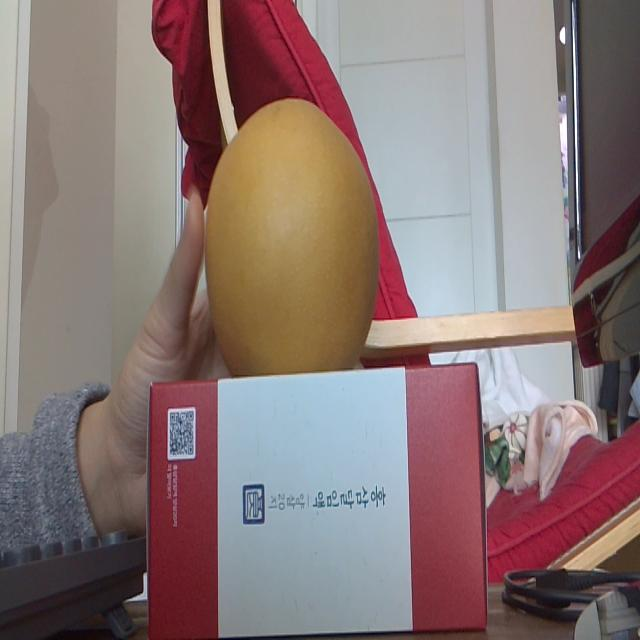pear: (202, 97, 383, 374)
